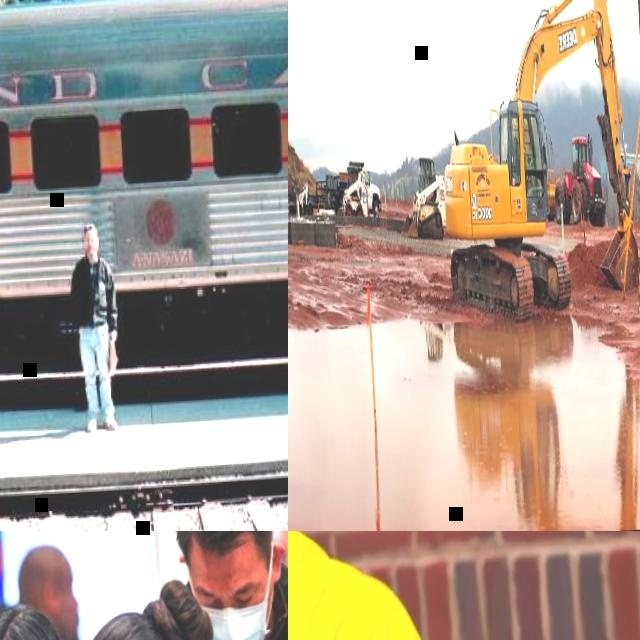Mask: (187, 559, 281, 640)
NO-Hardhat: (70, 606, 191, 640), (0, 597, 66, 640), (18, 545, 73, 585), (177, 531, 279, 552), (83, 222, 99, 234)
NO-Mask: (55, 611, 84, 640), (85, 246, 96, 257)
NO-Safety Vest: (288, 531, 376, 640), (73, 259, 111, 329)
Person: (0, 571, 288, 640), (288, 531, 460, 640), (170, 531, 288, 640), (67, 220, 121, 431), (14, 543, 85, 640), (0, 592, 133, 640)
machinery: (431, 0, 640, 317), (544, 134, 607, 227), (398, 155, 448, 240), (314, 159, 382, 216), (340, 170, 369, 217)
